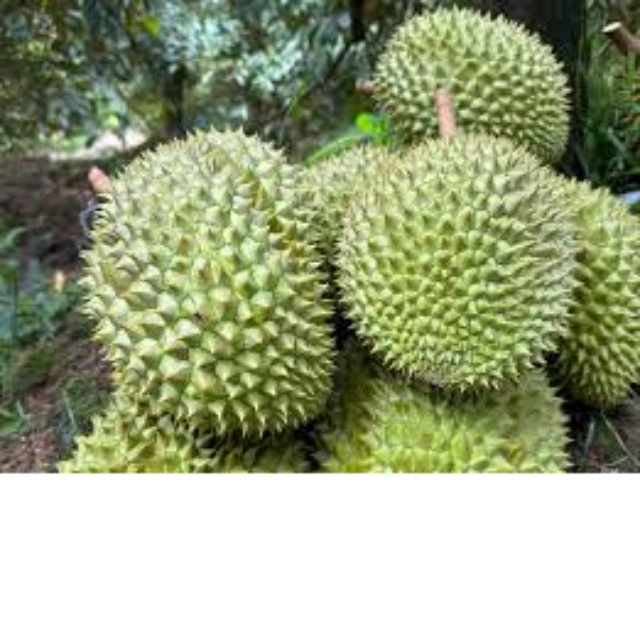sau_rieng: (74, 128, 330, 436), (332, 138, 568, 401), (360, 3, 576, 150)
